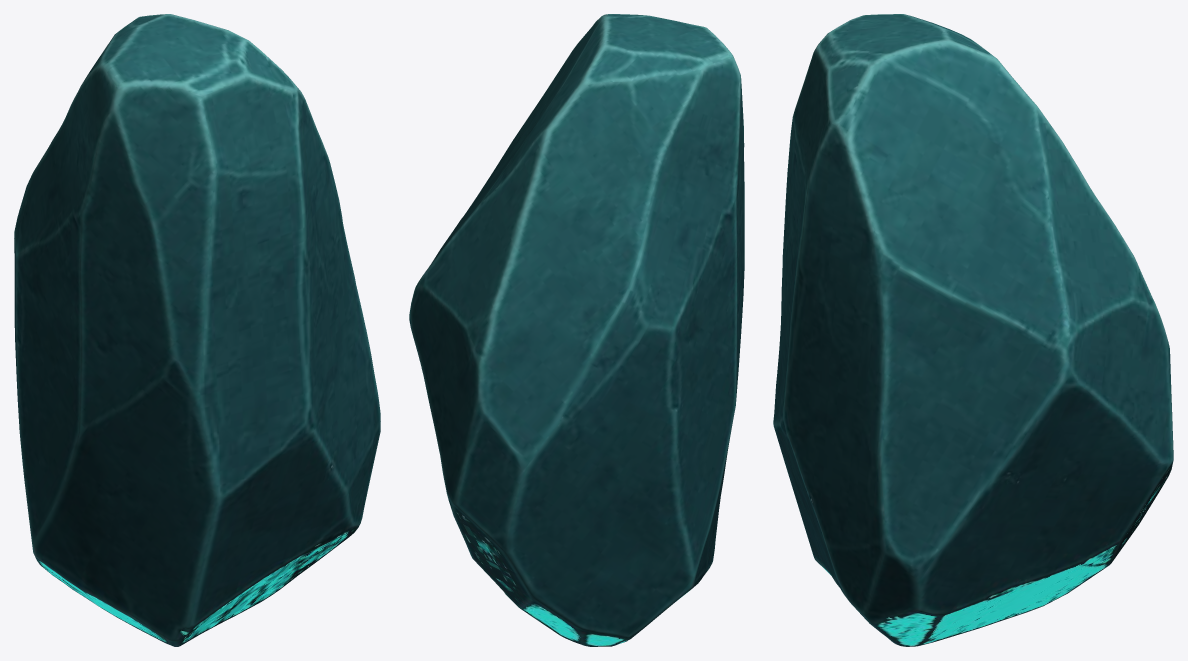
File: sky_boulder_e_soma.glb
3 views of the same model, side by side, from view 1: azimuth 30°, elevation 25°; view 2: azimuth 150°, elevation 25°; view 3: azimuth 270°, elevation 25° (orthographic). The views are drawn at different scales.
Parts seen in each view (by area): view 1: boulder_e; view 2: boulder_e; view 3: boulder_e.
Boxes of the visible parts, x1=… form: boulder_e: x1=14, y1=14, x2=380, y2=646; boulder_e: x1=409, y1=14, x2=744, y2=646; boulder_e: x1=773, y1=14, x2=1173, y2=646.
Bounding box in the file's own units: 7.62 × 14.32 × 9.02.
1 material, 1 textured.
